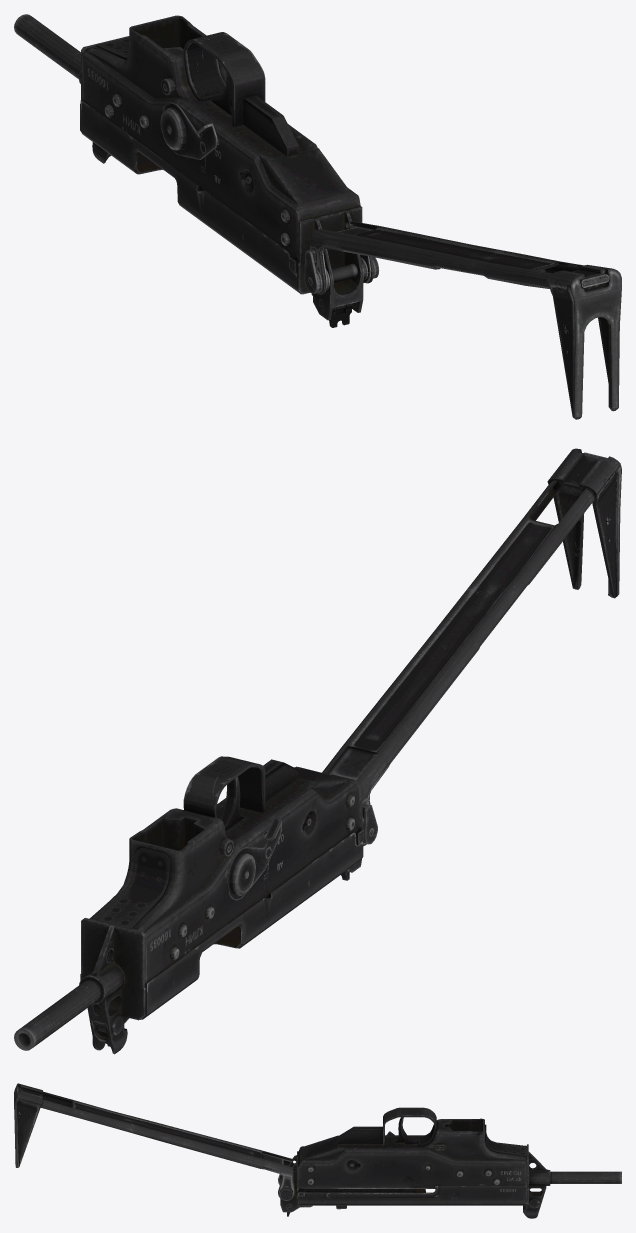
3 renders of one model, top to bottom at view 1: azimuth 30°, elevation 25°; view 2: azimuth 150°, elevation 25°; view 3: azimuth 270°, elevation 25°, orthographic. The views are drawn at different scales.
Visible parts, largest first — view 1: TW_57f4c844245977379d5c14d1_PZ_Import; view 2: TW_57f4c844245977379d5c14d1_PZ_Import; view 3: TW_57f4c844245977379d5c14d1_PZ_Import.
Boxes of the visible parts, x1,y1,x2,y2 form: TW_57f4c844245977379d5c14d1_PZ_Import: (14, 14, 621, 419); TW_57f4c844245977379d5c14d1_PZ_Import: (14, 448, 621, 1054); TW_57f4c844245977379d5c14d1_PZ_Import: (14, 1083, 621, 1218).
Bounding box in the file's own units: 0.0236 × 0.3131 × 0.0732.
1 material, 1 textured.
